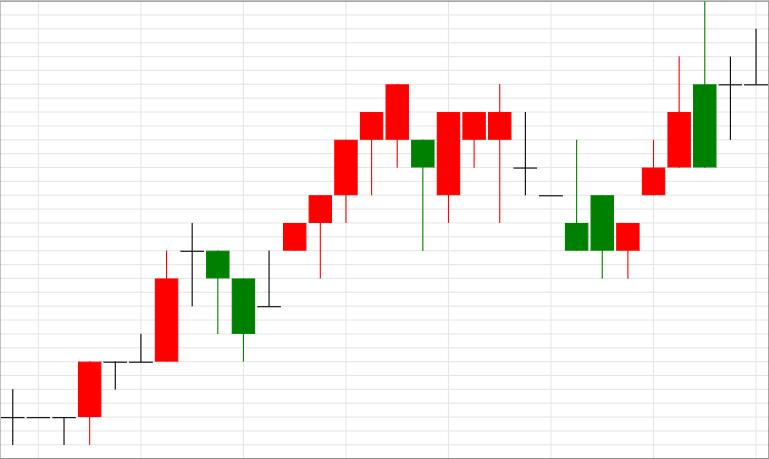bearish_engulfing_fall: (616, 2, 717, 279)
evening_star_fall: (1, 222, 229, 445)
hanging_man_fall: (232, 112, 383, 361), (232, 195, 332, 361)
inverse_hammer_rise: (489, 84, 588, 251)
